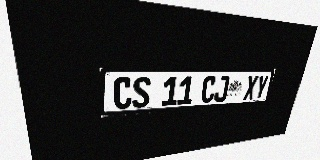1: (162, 76, 179, 106), (177, 76, 194, 105)
C: (114, 77, 132, 110), (200, 76, 217, 103)
J: (213, 76, 230, 102)
S: (132, 77, 151, 108)
X: (243, 75, 259, 100)
Y: (254, 75, 269, 99)
